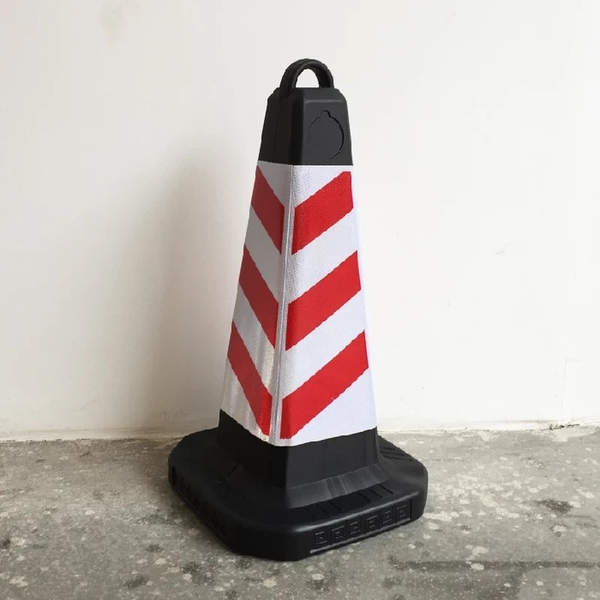traffic_cone: (160, 55, 456, 564)
